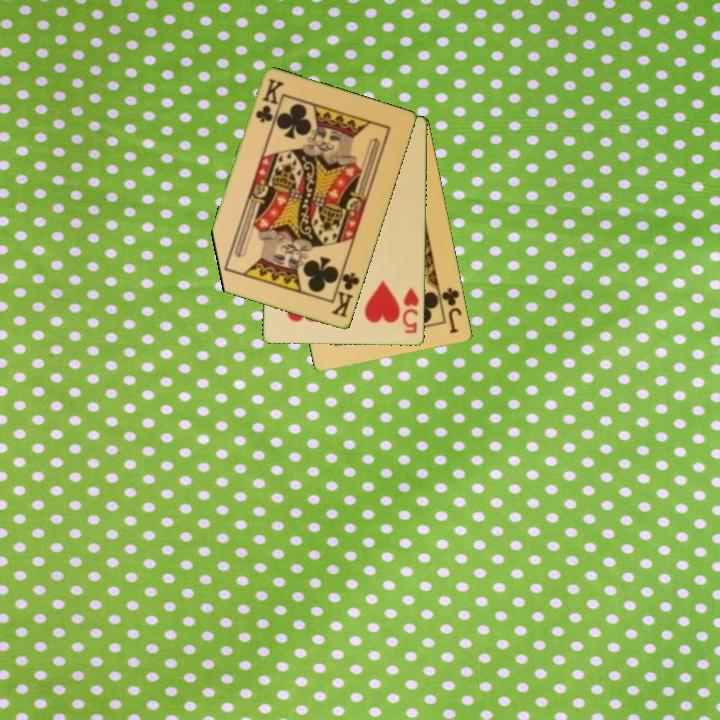5h: (399, 285, 421, 336)
Jc: (436, 284, 465, 336)
Kc: (328, 265, 363, 321), (252, 75, 286, 126)
